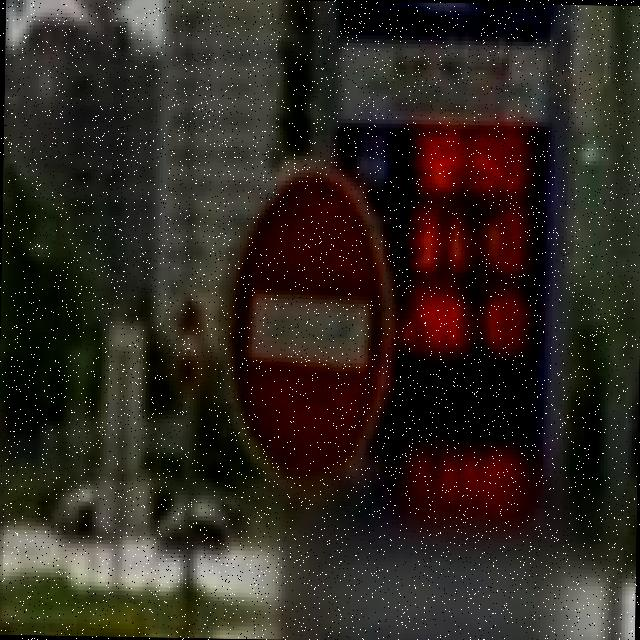Zakaz wjazdu: (222, 163, 394, 490)
